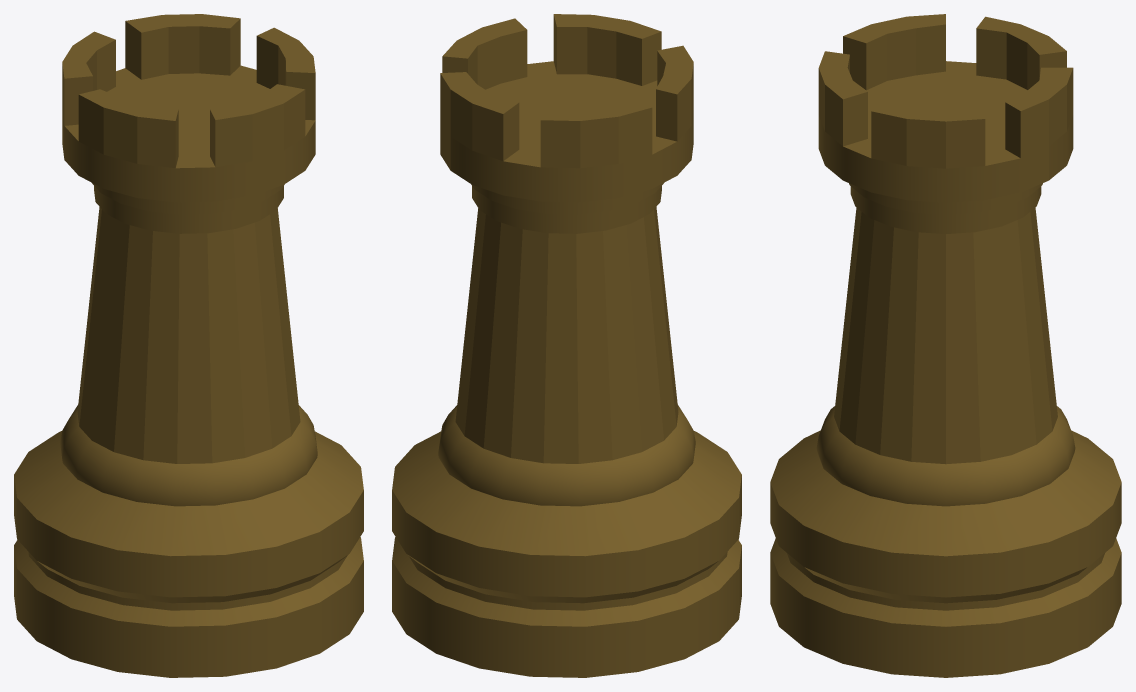
Rendered from Chess Piece.fbx.
The picture shows the model from 3 angles, left to right: view 1: azimuth 30°, elevation 25°; view 2: azimuth 150°, elevation 25°; view 3: azimuth 270°, elevation 25°; orthographic projection.
Parts seen in each view (by area): view 1: pCylinder7, pCylinder10, pTorus1, pCylinder8, pCylinder9; view 2: pCylinder7, pCylinder10, pTorus1, pCylinder8, pCylinder9; view 3: pCylinder7, pCylinder10, pTorus1, pCylinder8, pCylinder9.
Boxes of the visible parts, x1,y1,x2,y2 form: pCylinder7: (14, 207, 363, 677); pCylinder10: (62, 14, 315, 202); pTorus1: (60, 404, 317, 506); pCylinder8: (94, 186, 283, 233); pCylinder9: (91, 182, 284, 214); pCylinder7: (392, 207, 741, 677); pCylinder10: (440, 14, 693, 202); pTorus1: (438, 404, 695, 506); pCylinder8: (472, 186, 661, 233); pCylinder9: (471, 182, 664, 214); pCylinder7: (770, 207, 1121, 677); pCylinder10: (818, 14, 1073, 202); pTorus1: (816, 406, 1075, 506); pCylinder8: (850, 186, 1041, 233); pCylinder9: (849, 183, 1042, 214).
Bounding box in the file's own units: 0.7792 × 1.31 × 0.7792.
